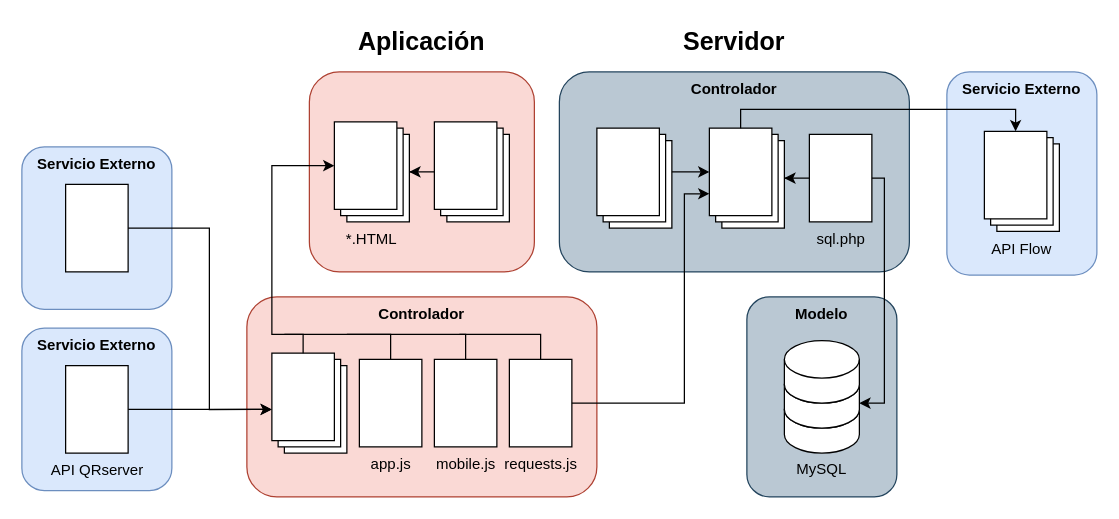
Image size: 1119x519. Some labels were removed from this diagram. Each missing label, with the box of its shape:
*.CSS: (433, 121, 509, 222)
*.JS: (271, 352, 347, 453)
API*.PHP: (708, 127, 784, 228)
func*.PHP: (596, 127, 672, 228)
Leaflet.js: (64, 183, 128, 272)
Vista: (308, 71, 534, 272)
